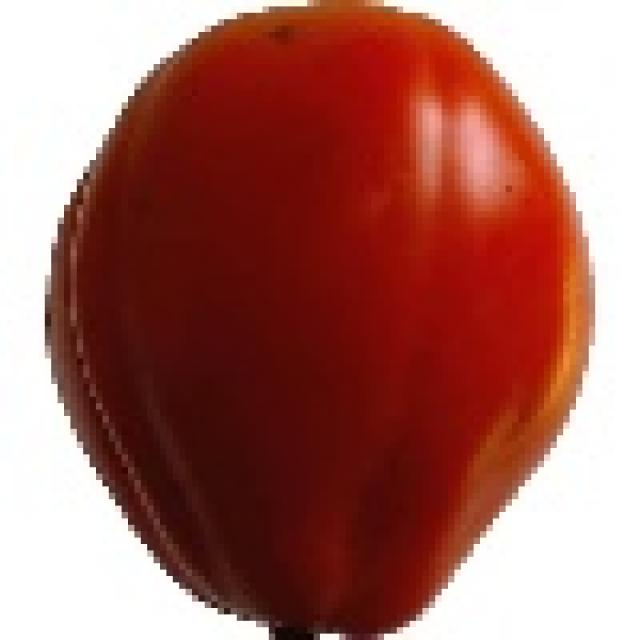tomato: (49, 2, 590, 634)
